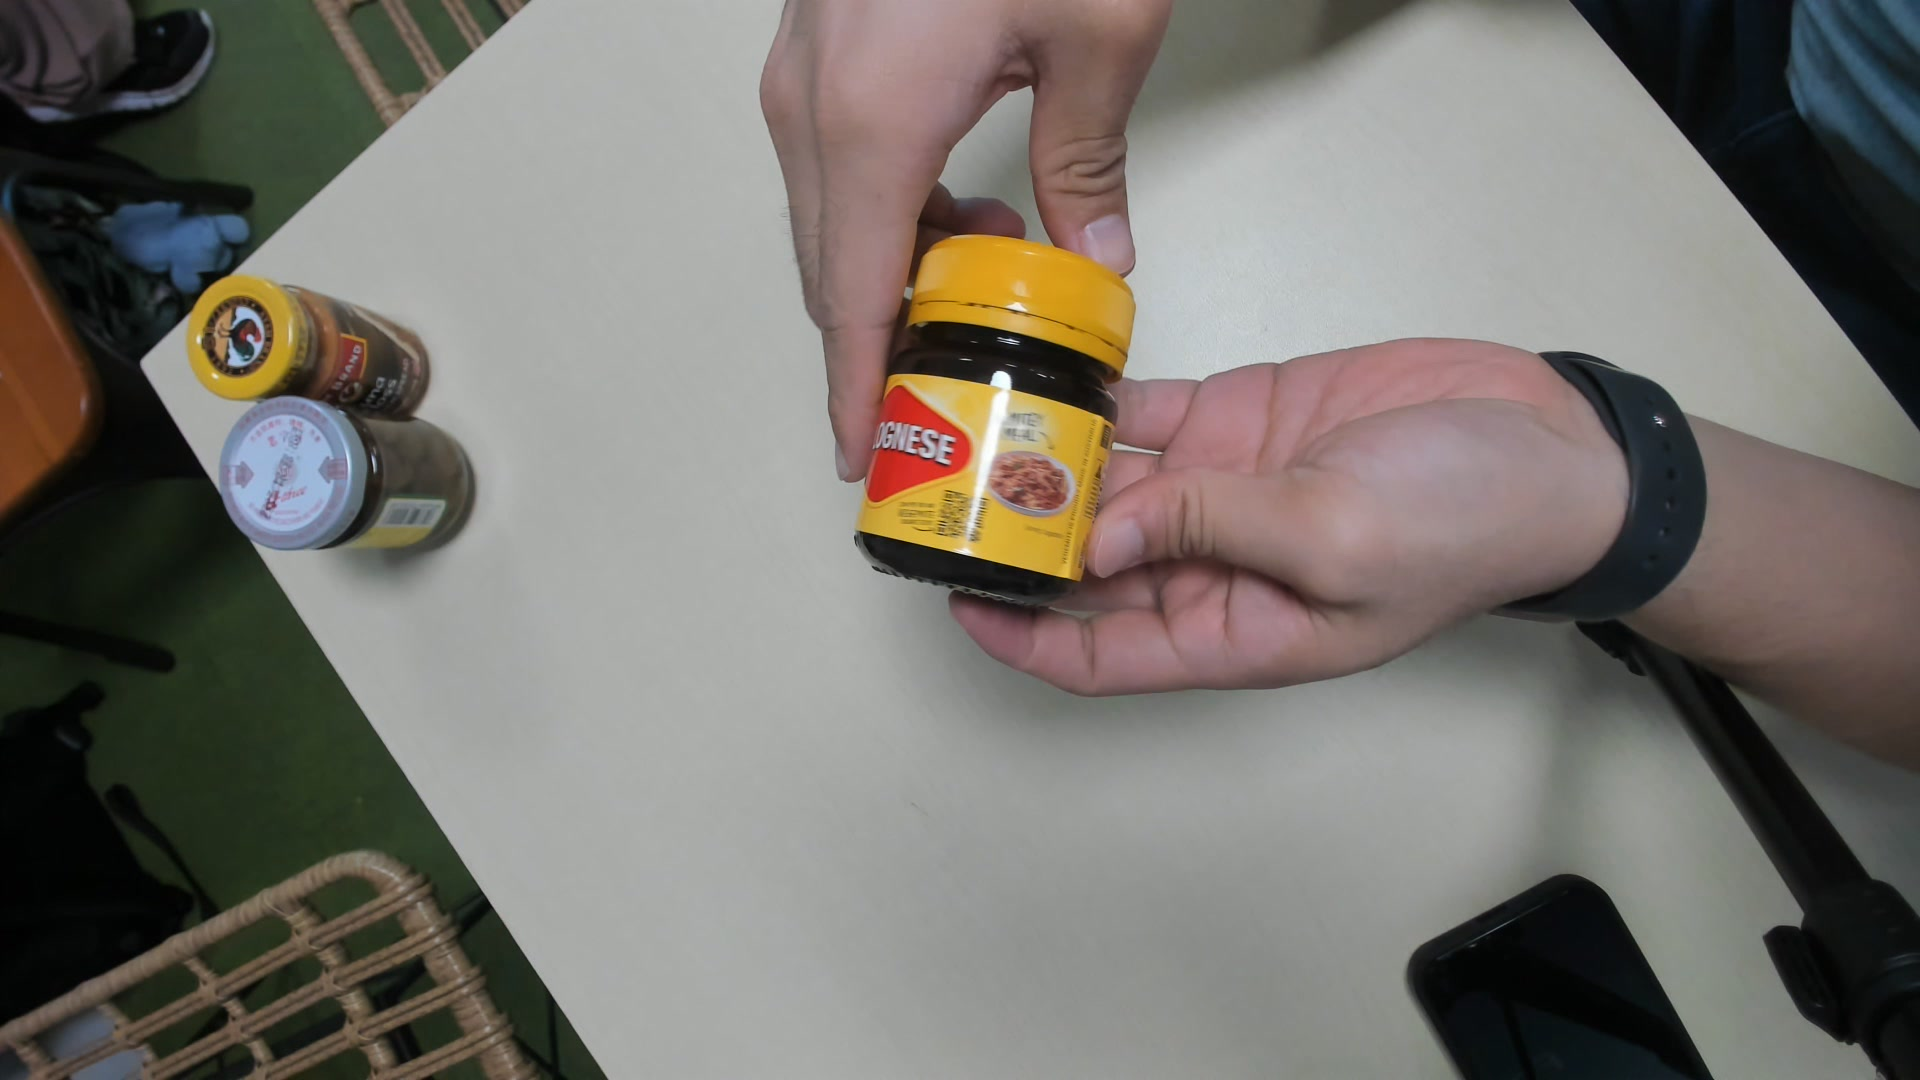OtherSauceDressing_200-299g_Halal_NonHealthy: (853, 233, 1135, 595)
